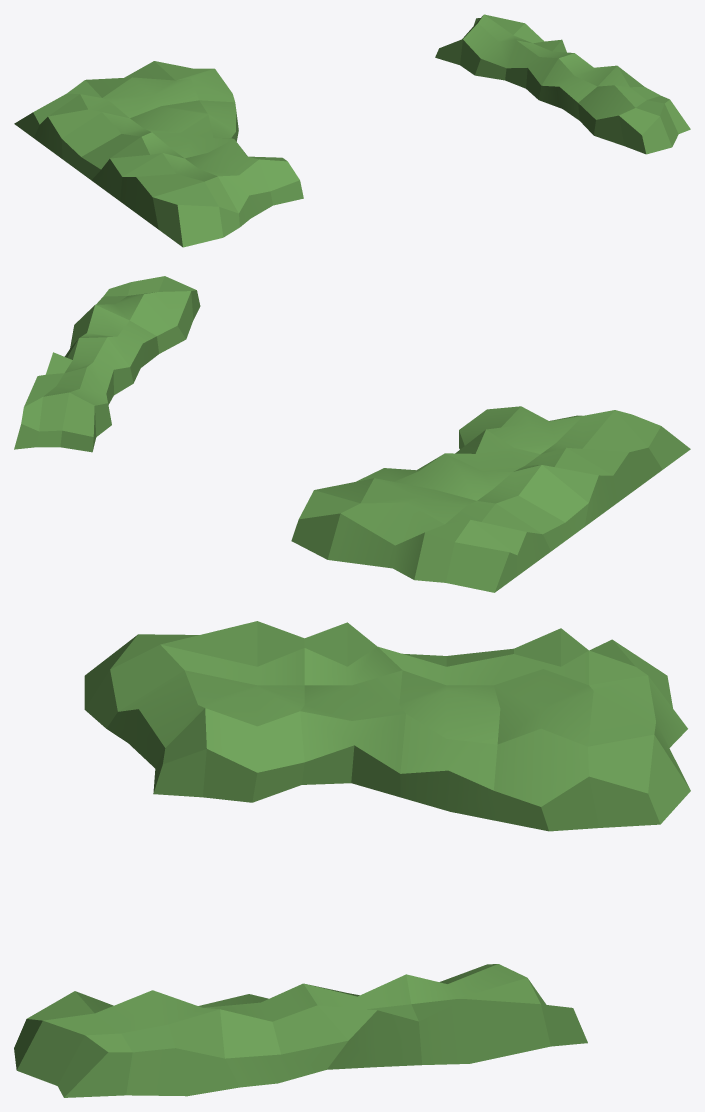
The model's file is forests.fbx.
The picture shows the model from 3 angles, top to bottom: view 1: azimuth 30°, elevation 25°; view 2: azimuth 150°, elevation 25°; view 3: azimuth 270°, elevation 25°; orthographic projection. The views are drawn at different scales.
Parts seen in each view (by area): view 1: greatForestPlaceholder_1_geo, greatForestPlaceholder_2_geo; view 2: greatForestPlaceholder_1_geo, greatForestPlaceholder_2_geo; view 3: greatForestPlaceholder_1_geo, greatForestPlaceholder_2_geo.
Part boxes in pixels (left/top/right/bottom): greatForestPlaceholder_1_geo: left=14, top=61, right=303, bottom=247; greatForestPlaceholder_2_geo: left=435, top=14, right=690, bottom=154; greatForestPlaceholder_1_geo: left=291, top=406, right=690, bottom=592; greatForestPlaceholder_2_geo: left=14, top=276, right=200, bottom=452; greatForestPlaceholder_1_geo: left=84, top=621, right=690, bottom=831; greatForestPlaceholder_2_geo: left=14, top=964, right=587, bottom=1097.
Bounding box in the file's own units: 162 × 12.13 × 110.
